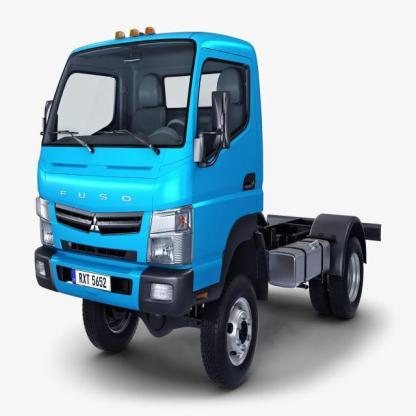truck: (36, 25, 383, 392)
